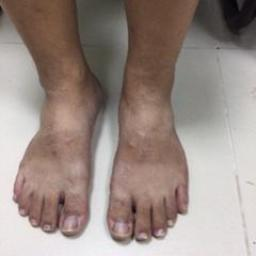Dorsal View -Both Feet-: (8, 42, 196, 246)
